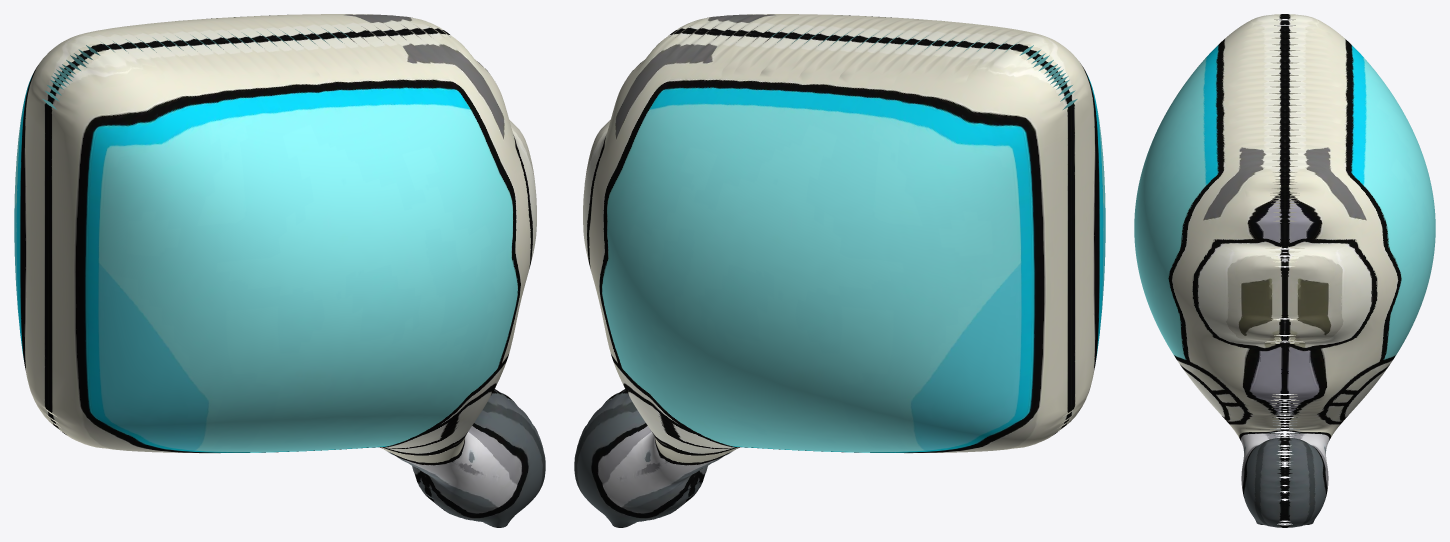
The model's file is monitor_console.glb.
3 renders of one model, left to right at view 1: azimuth 30°, elevation 25°; view 2: azimuth 150°, elevation 25°; view 3: azimuth 270°, elevation 25°, orthographic. The views are drawn at different scales.
Parts seen in each view (by area): view 1: monitor_console; view 2: monitor_console; view 3: monitor_console.
Boxes of the visible parts, left/top/right/bottom form: monitor_console: left=14, top=14, right=545, bottom=527; monitor_console: left=574, top=14, right=1105, bottom=527; monitor_console: left=1134, top=14, right=1435, bottom=527.
Bounding box in the file's own units: 0.9879 × 1.08 × 0.7806.
Materials: 1 (1 with a texture image).
